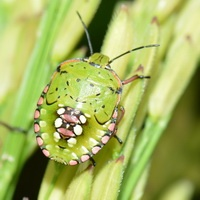insect: (34, 40, 159, 164), (34, 44, 158, 164)
